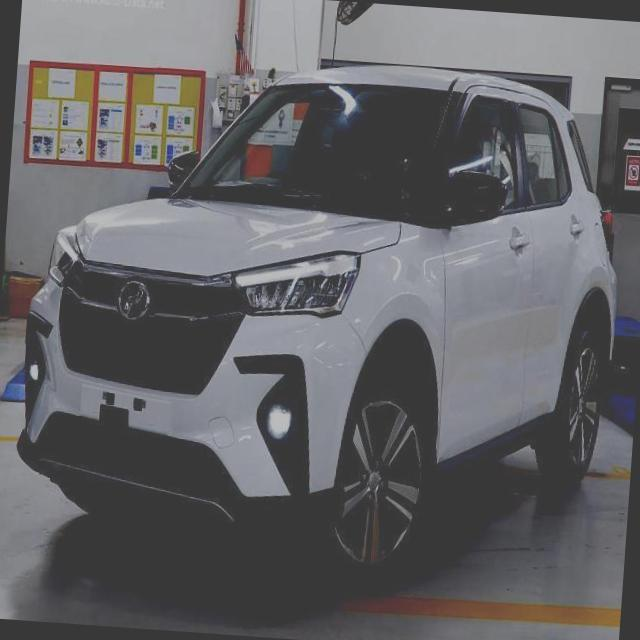PeroduaAtiva: (6, 37, 634, 592)
